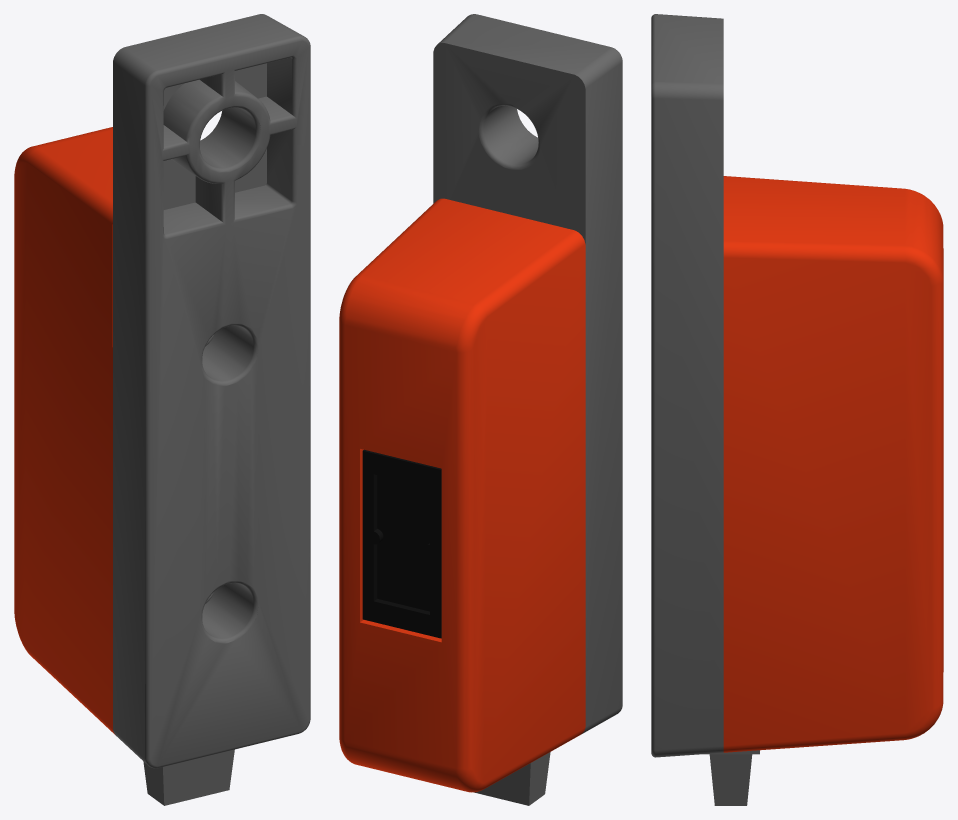
Rendered from Line_Tracker__276-2154_.glb.
3 renders of one model, left to right at view 1: azimuth 30°, elevation 25°; view 2: azimuth 150°, elevation 25°; view 3: azimuth 270°, elevation 25°, orthographic. The views are drawn at different scales.
Visible parts, largest first — view 1: Line Tracker (276-2154); view 2: Line Tracker (276-2154); view 3: Line Tracker (276-2154).
Part boxes in pixels (x1=…): Line Tracker (276-2154): x1=14, y1=14, x2=310, y2=805; Line Tracker (276-2154): x1=339, y1=14, x2=622, y2=805; Line Tracker (276-2154): x1=651, y1=14, x2=943, y2=805.
Size of the model in its own units: 0.5027 by 2.23 by 0.7953.
